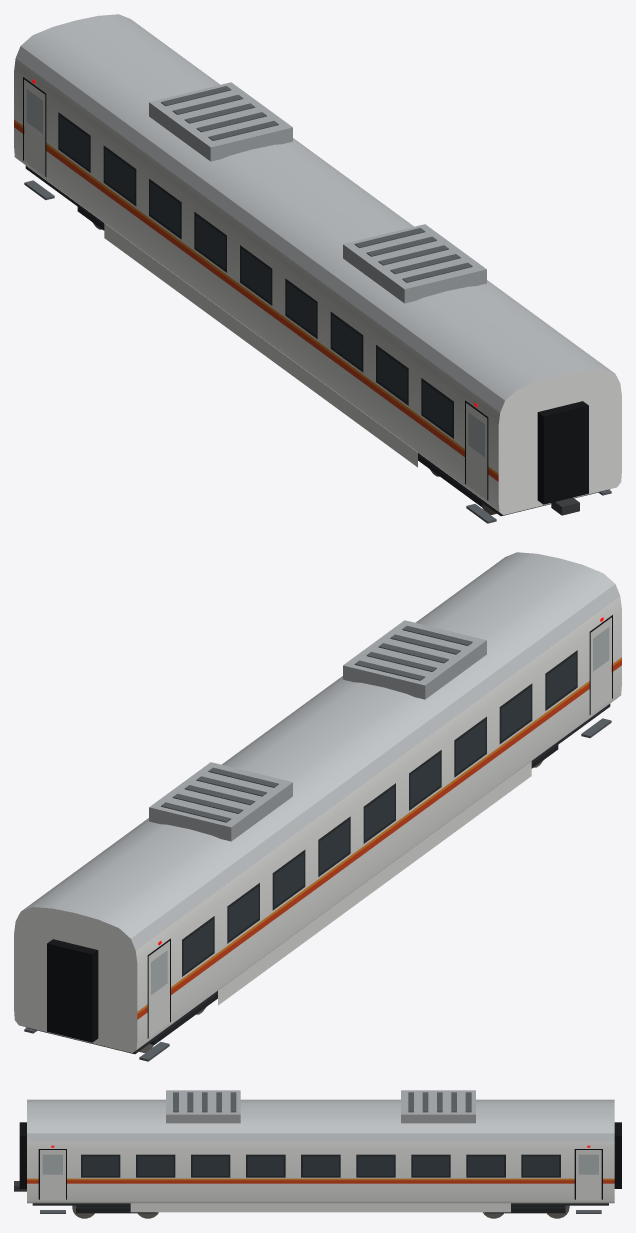
Rendered from pp-middle.glb.
3 views of the same model, one above another, from view 1: azimuth 30°, elevation 25°; view 2: azimuth 150°, elevation 25°; view 3: azimuth 270°, elevation 25° (orthographic). The views are drawn at different scales.
Visible parts, largest first — view 1: PP_Middle; view 2: PP_Middle; view 3: PP_Middle.
Boxes of the visible parts, left/top/right/bottom form: PP_Middle: left=14, top=14, right=621, bottom=523; PP_Middle: left=14, top=552, right=621, bottom=1061; PP_Middle: left=14, top=1090, right=621, bottom=1218.
Size of the model in its own units: 3.08 by 4.17 by 21.1.
